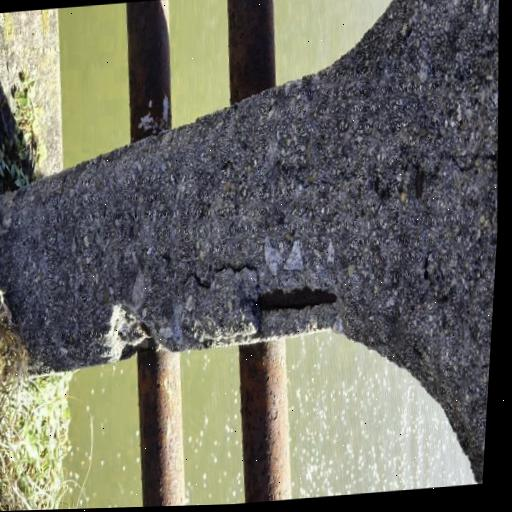exposed_rebar: (258, 286, 337, 310), (415, 166, 424, 198)
